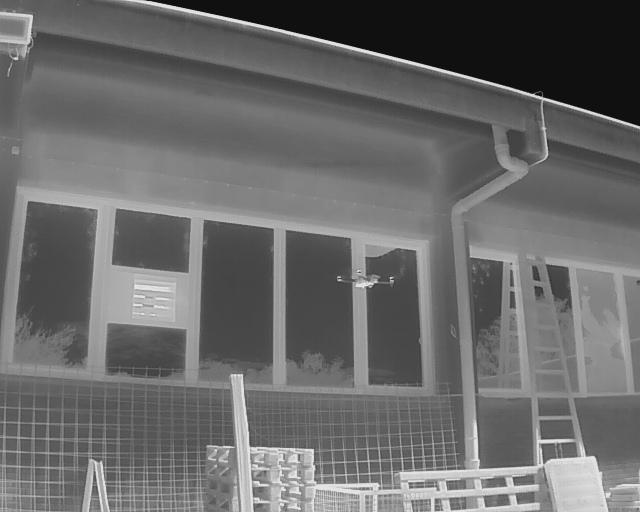drone: (330, 262, 402, 299)
